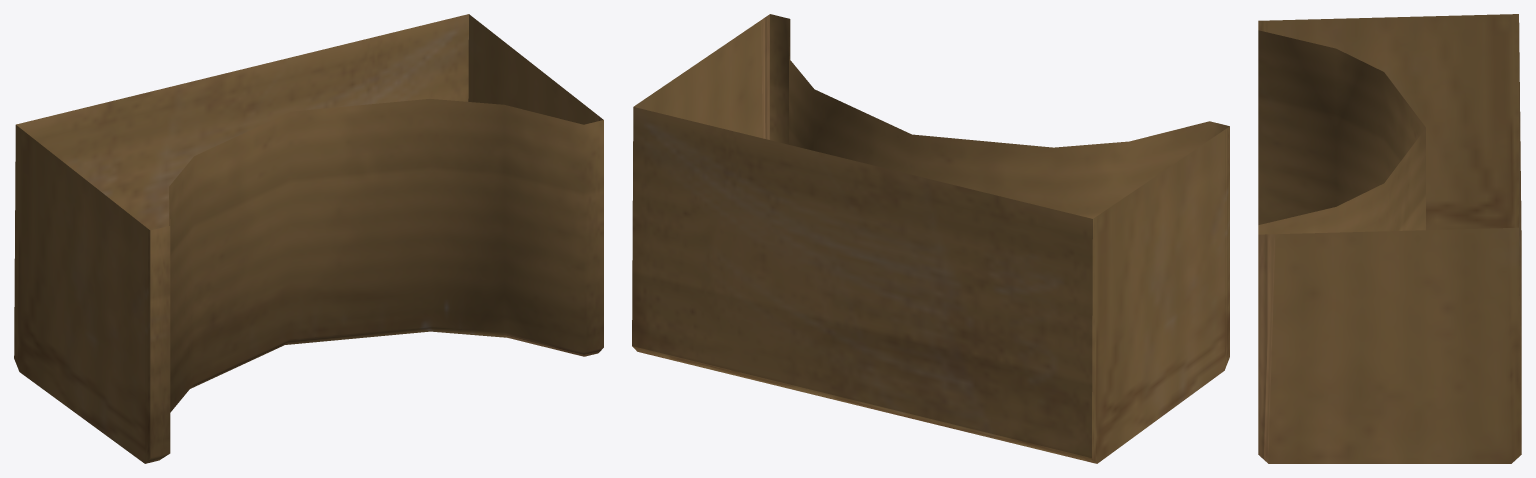
File: SM_Pond_Wood.fbx
The picture shows the model from 3 angles, left to right: view 1: azimuth 30°, elevation 25°; view 2: azimuth 150°, elevation 25°; view 3: azimuth 270°, elevation 25°; orthographic projection. The views are drawn at different scales.
Visible parts, largest first — view 1: SM_Pond_Bois; view 2: SM_Pond_Bois; view 3: SM_Pond_Bois.
Boxes of the visible parts, x1=… form: SM_Pond_Bois: x1=14, y1=14, x2=603, y2=463; SM_Pond_Bois: x1=632, y1=14, x2=1229, y2=463; SM_Pond_Bois: x1=1258, y1=14, x2=1521, y2=463.
Bounding box in the file's own units: 38.45 × 19.81 × 20.
